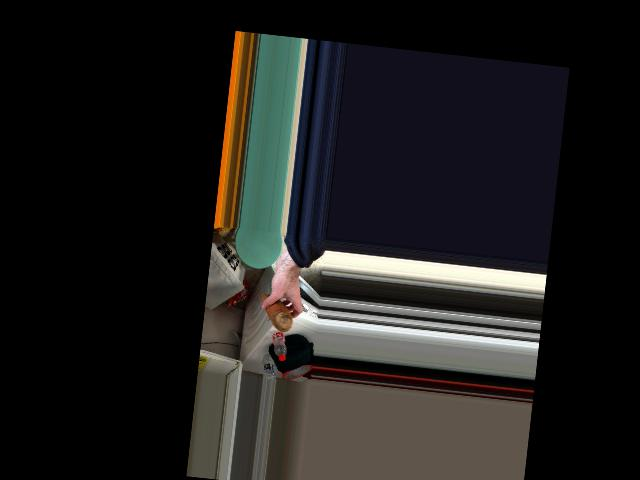sweet_potato: (256, 294, 292, 332)
